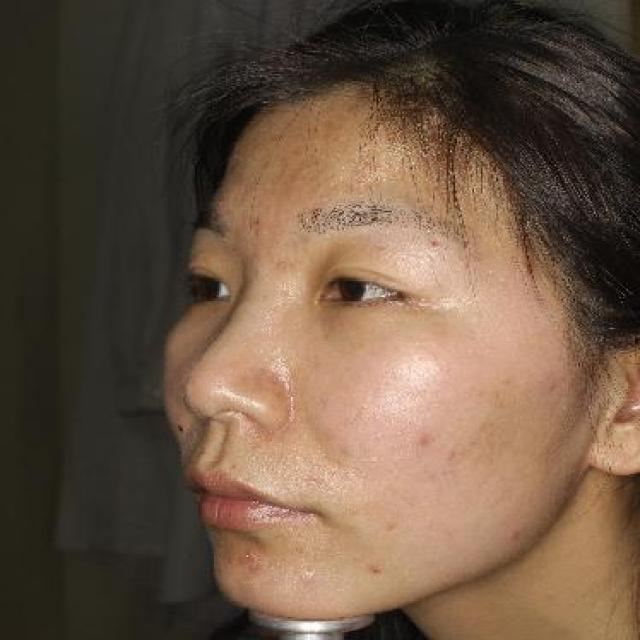blackhead: (422, 235, 441, 251), (351, 175, 364, 188), (252, 219, 267, 226)
darkspot: (408, 428, 441, 454)
nodules: (235, 545, 265, 571), (295, 563, 324, 586), (361, 560, 386, 577)
